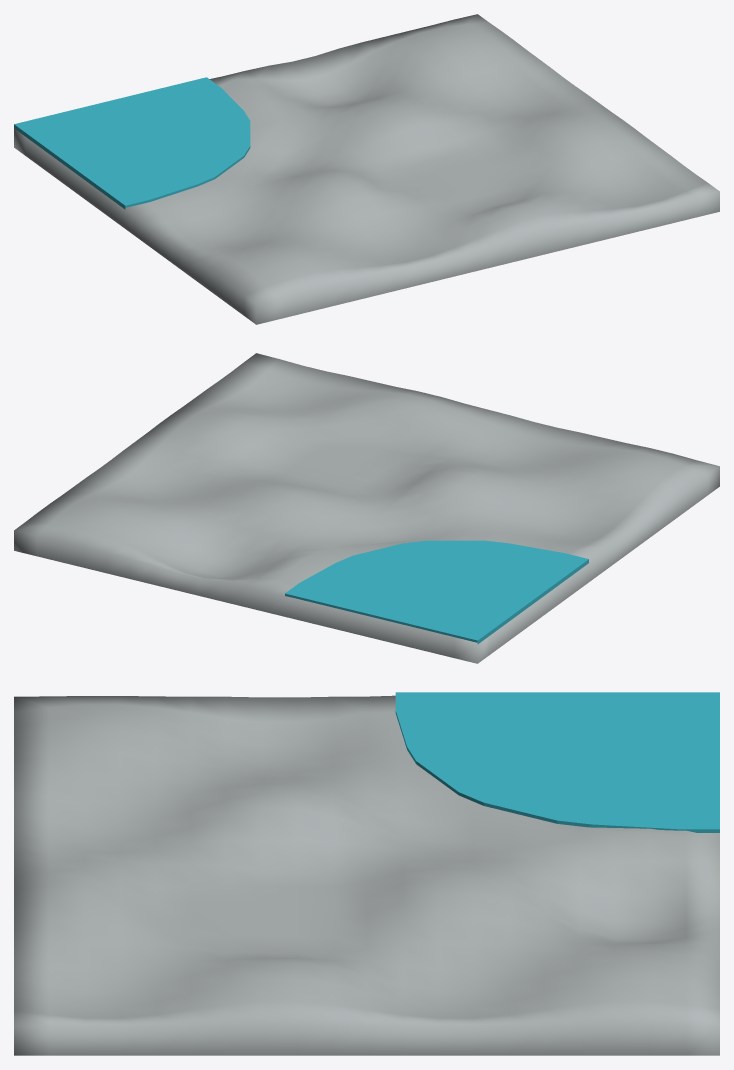
The model's file is neve.fbx.
The picture shows the model from 3 angles, top to bottom: view 1: azimuth 30°, elevation 25°; view 2: azimuth 150°, elevation 25°; view 3: azimuth 270°, elevation 25°; orthographic projection. The views are drawn at different scales.
Visible parts, largest first — view 1: Neve; view 2: Neve; view 3: Neve.
Part boxes in pixels (left/top/right/bottom): Neve: left=14, top=14, right=719, bottom=324; Neve: left=14, top=353, right=719, bottom=663; Neve: left=14, top=692, right=719, bottom=1055.
Size of the model in its own units: 2026 by 139 by 1834.
